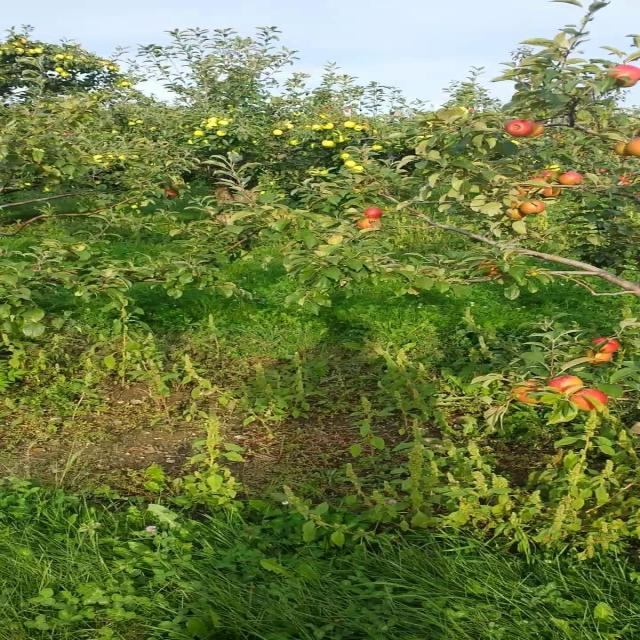apple: (575, 388, 612, 412), (547, 376, 583, 396), (511, 384, 542, 404), (611, 68, 639, 88), (504, 120, 530, 137), (525, 200, 548, 216), (582, 352, 612, 364), (476, 264, 505, 276), (561, 172, 583, 186), (596, 340, 620, 352), (589, 352, 612, 364), (532, 172, 555, 183), (625, 140, 639, 156), (540, 188, 562, 197), (532, 124, 548, 136), (511, 208, 526, 220), (540, 172, 558, 182), (369, 208, 384, 219), (362, 220, 382, 228), (618, 144, 628, 156), (518, 188, 532, 196), (163, 192, 178, 199), (511, 200, 524, 208)
